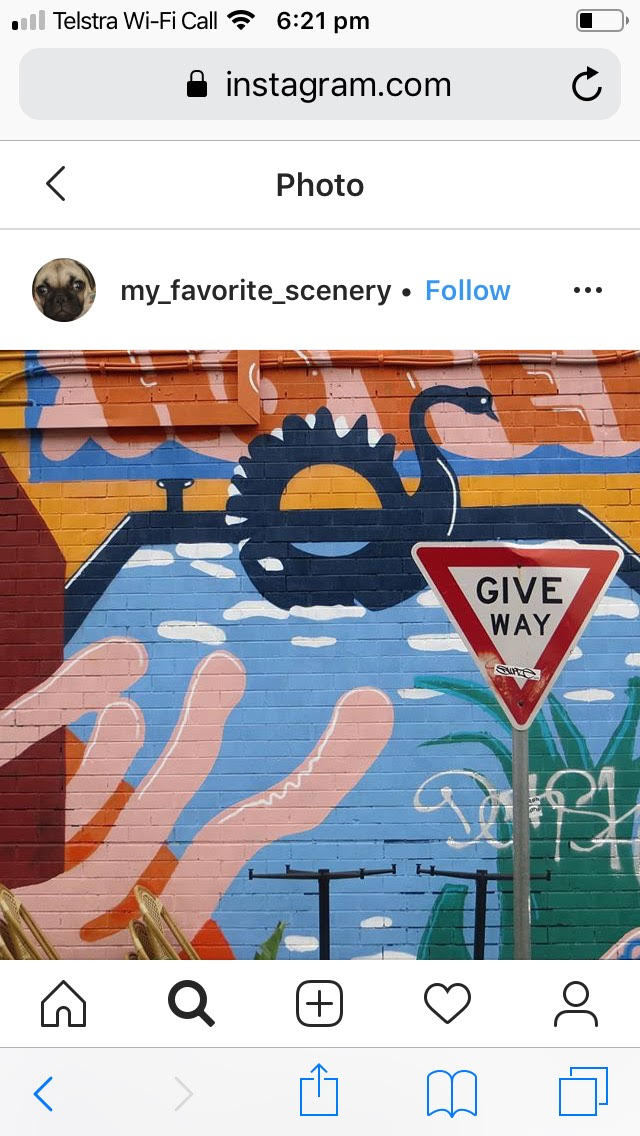giveway: (406, 539, 632, 730), (503, 542, 623, 725), (419, 546, 530, 724), (460, 600, 584, 722), (431, 555, 590, 622)
